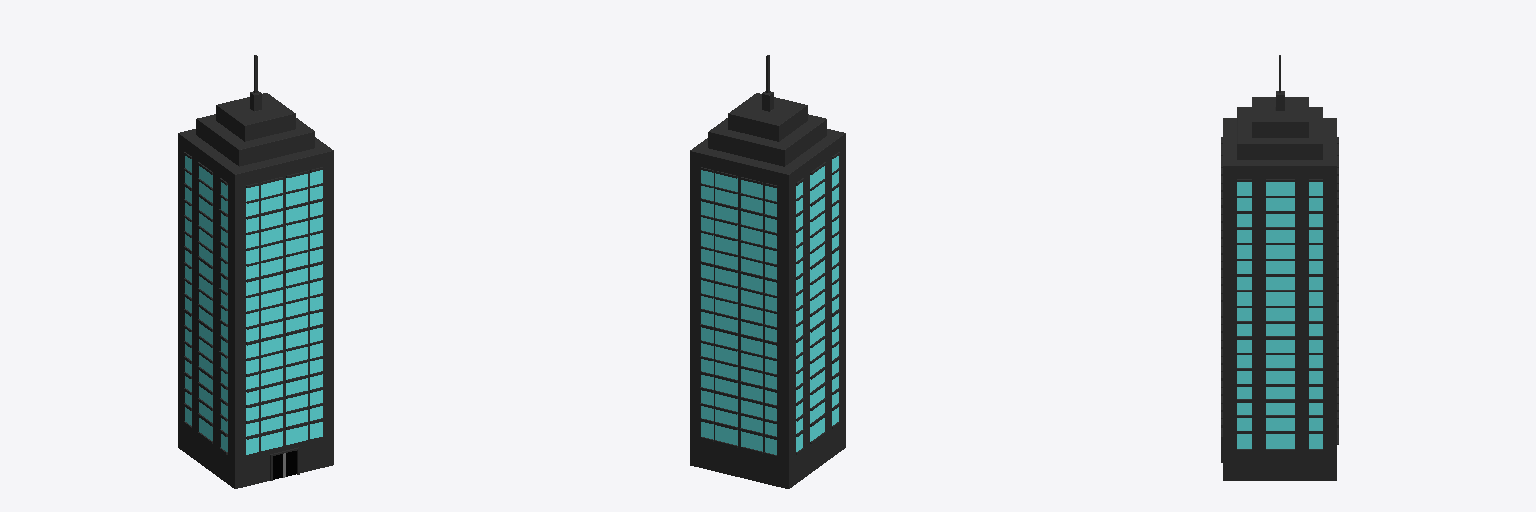
The model's file is skyscraper.obj.
3 views of the same model, side by side, from view 1: azimuth 30°, elevation 25°; view 2: azimuth 150°, elevation 25°; view 3: azimuth 270°, elevation 25° (orthographic).
Visible parts, largest first — view 1: pCube5; view 2: pCube5; view 3: pCube5.
Boxes of the visible parts, x1=… form: pCube5: x1=178, y1=55, x2=333, y2=488; pCube5: x1=690, y1=55, x2=845, y2=488; pCube5: x1=1221, y1=55, x2=1338, y2=480.
Size of the model in its own units: 1437 by 5408 by 1440.